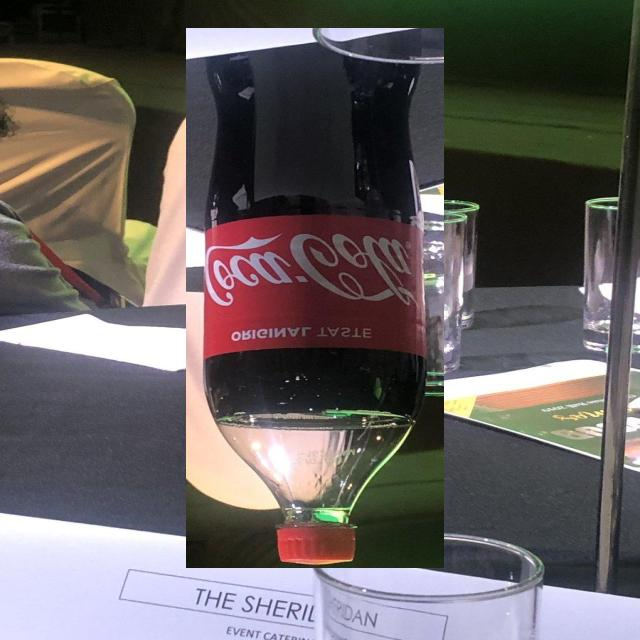coca-cola: (186, 28, 444, 568)
